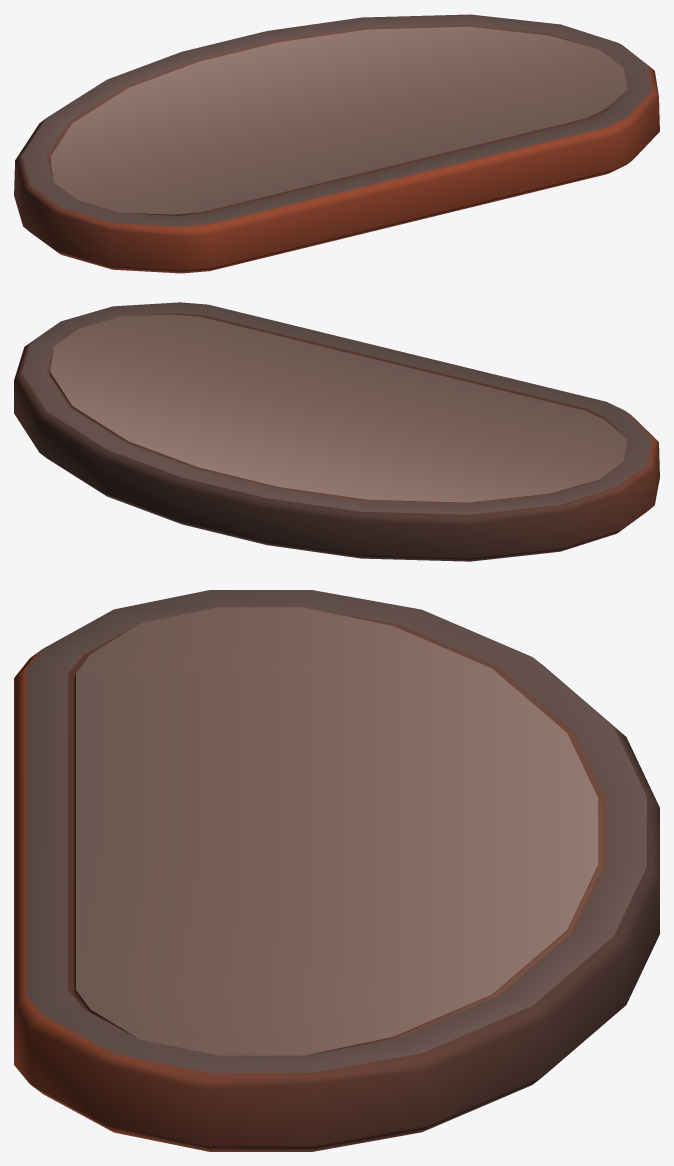
The model's file is bread_003.fbx.
3 views of the same model, one above another, from view 1: azimuth 30°, elevation 25°; view 2: azimuth 150°, elevation 25°; view 3: azimuth 270°, elevation 25° (orthographic). The views are drawn at different scales.
Visible parts, largest first — view 1: bread_003; view 2: bread_003; view 3: bread_003.
Boxes of the visible parts, <box> form: bread_003: <box>14,14,659,273</box>; bread_003: <box>14,302,659,561</box>; bread_003: <box>14,590,659,1151</box>.
Size of the model in its own units: 20.76 by 11.48 by 1.55.
